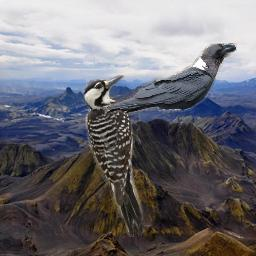Crow: (104, 43, 237, 115)
Woodpecker: (83, 75, 145, 237)
